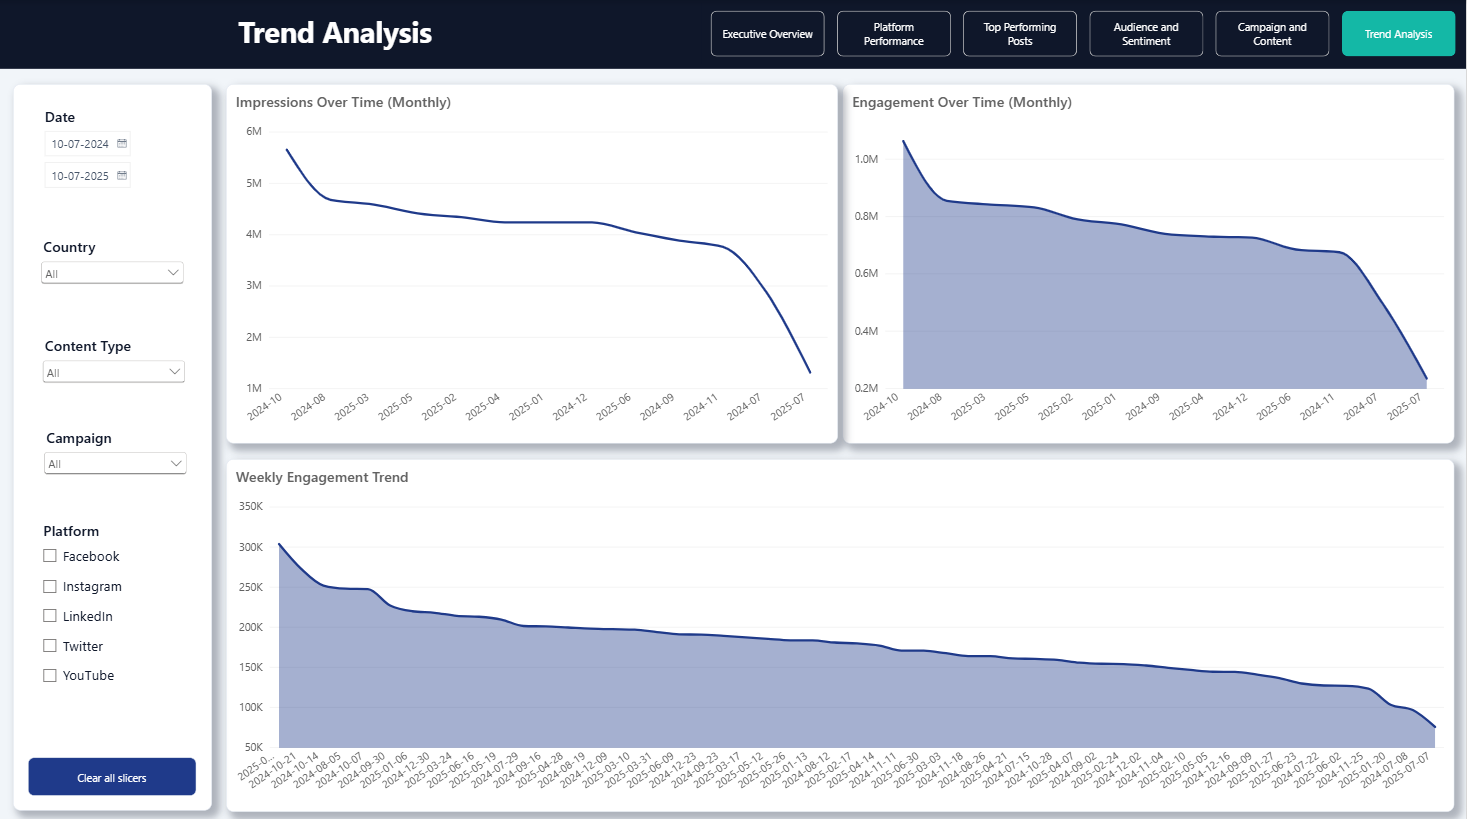

What the dashboard file says about the page in this screenshot:
{"tool":"powerbi","page":{"name":"Trend Analysis","canvas":[1920,1080],"ordinal":5},"visuals":[{"type":"areaChart","title":"Engagement Over Time (Monthly)","fields":{"Category":["DateTable.Year-Month"],"Y":["SocialMediaInsights.TotalEngagement"]},"box":[1103.9,109,800,470],"z":1000},{"type":"stackedAreaChart","title":"Weekly Engagement Trend","fields":{"Category":["DateTable.Year-Week"],"Y":["SocialMediaInsights.TotalEngagement"]},"box":[297.5,599.6,1605.8,461.1],"z":2000},{"type":"shape","box":[0,0,1920,90],"z":4000},{"type":"textbox","box":[60,6.7,760,76.7],"z":5000},{"type":"pageNavigator","box":[919,4.3,1000,80],"z":6000},{"type":"shape","box":[20,110,260,950],"z":7000},{"type":"slicer","fields":{"Values":["DateTable.Date"]},"box":[40.9,130,218,165.8],"z":8000},{"type":"slicer","fields":{"Values":["SocialMediaInsights.Country"]},"box":[40,300,220,100],"z":9000},{"type":"slicer","fields":{"Values":["SocialMediaInsights.ContentType"]},"box":[40.9,430,220,100],"z":10000},{"type":"slicer","fields":{"Values":["SocialMediaInsights.Campaign"]},"box":[43.2,550,220,100],"z":11000},{"type":"slicer","fields":{"Values":["SocialMediaInsights.Platform"]},"box":[38.6,670,220,250],"z":12000},{"type":"actionButton","box":[40,990,220,50],"z":13000},{"type":"lineChart","title":"Impressions Over Time (Monthly)","fields":{"Category":["DateTable.Year-Month"],"Y":["SocialMediaInsights.TotalImpressions"]},"box":[297.5,109,800,470.2],"z":14000}]}

Visuals, with their boxes in screenshot pixels (x1, y1, x2, y2), scaled from the page's 1920x1080 canvas onto the 1467x819 screenshot:
"Engagement Over Time (Monthly)" areaChart: select_region(843, 83, 1455, 439)
"Weekly Engagement Trend" stackedAreaChart: select_region(227, 455, 1454, 804)
shape: select_region(0, 0, 1466, 68)
textbox: select_region(46, 5, 627, 63)
pageNavigator: select_region(702, 3, 1466, 64)
shape: select_region(15, 83, 214, 804)
slicer - DateTable.Date: select_region(31, 99, 198, 224)
slicer - SocialMediaInsights.Country: select_region(31, 228, 199, 303)
slicer - SocialMediaInsights.ContentType: select_region(31, 326, 199, 402)
slicer - SocialMediaInsights.Campaign: select_region(33, 417, 201, 493)
slicer - SocialMediaInsights.Platform: select_region(29, 508, 198, 698)
actionButton: select_region(31, 751, 199, 789)
"Impressions Over Time (Monthly)" lineChart: select_region(227, 83, 839, 439)
